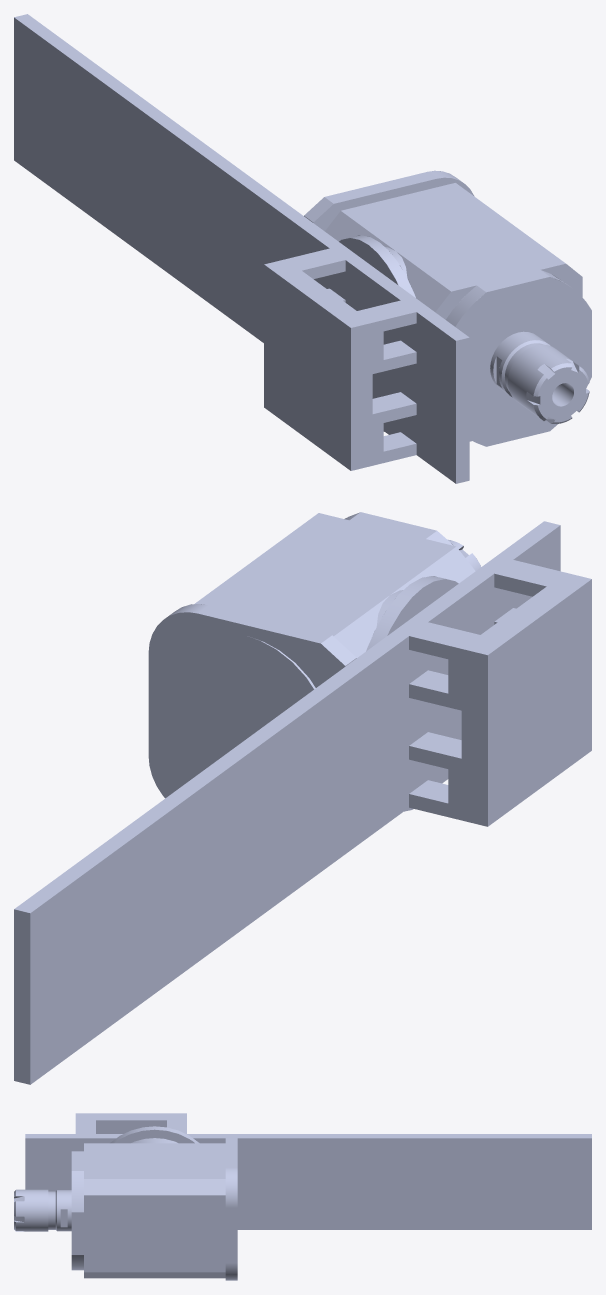
Rendered from Motor.DAE.
The picture shows the model from 3 angles, top to bottom: view 1: azimuth 30°, elevation 25°; view 2: azimuth 150°, elevation 25°; view 3: azimuth 270°, elevation 25°; orthographic projection. The views are drawn at different scales.
Parts seen in each view (by area): view 1: AST55889240-DC_Brep (×2); view 2: AST55889240-DC_Brep (×2); view 3: AST55889240-DC_Brep (×2).
Part boxes in pixels (box(x1,y1,x2,y2)): AST55889240-DC_Brep (×2): box(14, 14, 591, 483); AST55889240-DC_Brep (×2): box(14, 512, 591, 1084); AST55889240-DC_Brep (×2): box(14, 1113, 591, 1280).
Bounding box in the file's own units: 0.267 × 0.8566 × 0.189.
